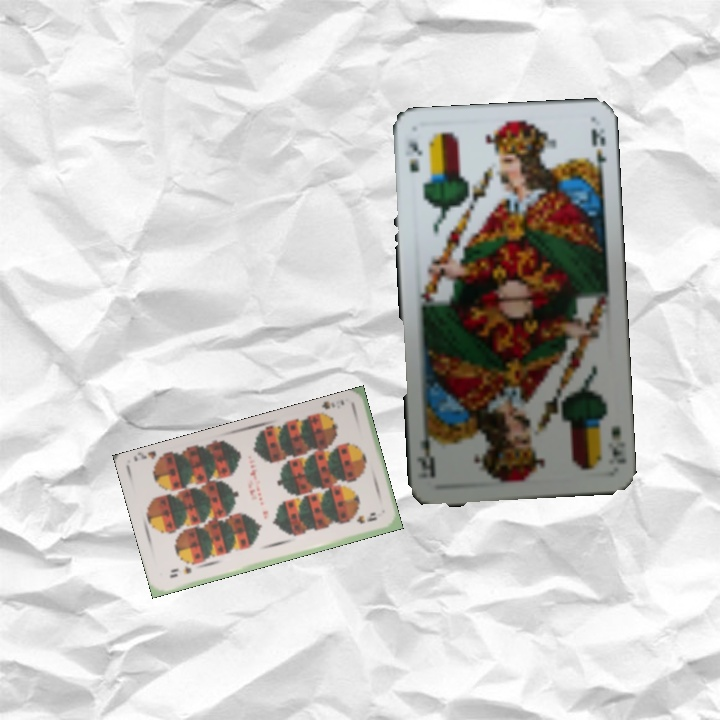EK: (405, 137, 425, 176), (607, 421, 625, 460)
S9: (312, 396, 347, 421), (165, 563, 194, 580)
